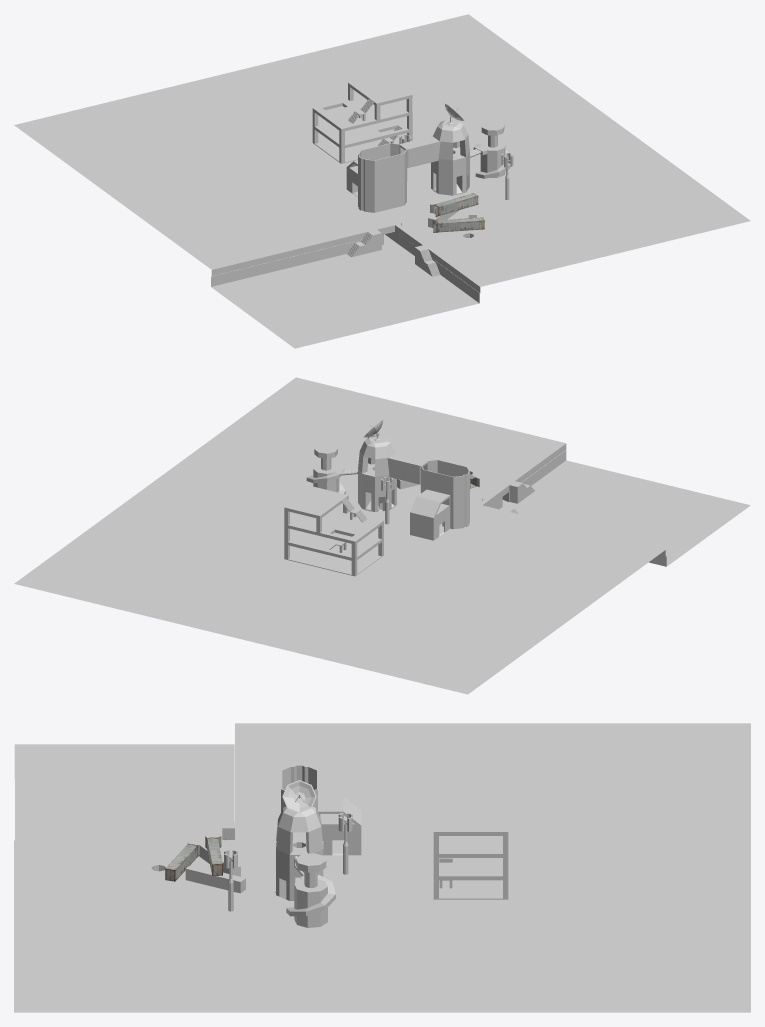
File: TheTower.fbx
3 renders of one model, top to bottom at view 1: azimuth 30°, elevation 25°; view 2: azimuth 150°, elevation 25°; view 3: azimuth 270°, elevation 25°, orthographic. The views are drawn at different scales.
Parts seen in each view (by area): view 1: Cylinder, Cube, Cube.019, Cube.005, Cube.014, Cube.008, Cube.006, Cube.016; view 2: Cylinder, Cube, Cube.019, Cube.005, Cube.014; view 3: Cylinder, Cube, Cube.019, Cube.005, Cube.014, Cube.007, Cylinder.001, Cube.008, Cube.016, Cube.002.
Part boxes in pixels (left/top/right/bottom): Cylinder: left=14, top=14, right=750, bottom=292; Cube: left=211, top=231, right=479, bottom=348; Cube.019: left=312, top=74, right=412, bottom=163; Cube.005: left=346, top=136, right=440, bottom=212; Cube.014: left=473, top=121, right=511, bottom=178; Cube.008: left=435, top=217, right=484, bottom=232; Cube.006: left=346, top=229, right=381, bottom=257; Cube.016: left=434, top=193, right=478, bottom=216; Cylinder: left=14, top=377, right=665, bottom=694; Cube: left=378, top=450, right=750, bottom=566; Cube.019: left=284, top=486, right=383, bottom=576; Cube.005: left=387, top=452, right=469, bottom=540; Cube.014: left=306, top=443, right=345, bottom=494; Cylinder: left=14, top=723, right=750, bottom=1012; Cube: left=14, top=744, right=234, bottom=840; Cube.019: left=433, top=809, right=508, bottom=899; Cube.005: left=281, top=765, right=361, bottom=855; Cube.014: left=286, top=853, right=335, bottom=927; Cube.007: left=185, top=865, right=245, bottom=893; Cylinder.001: left=282, top=780, right=316, bottom=813; Cube.008: left=165, top=843, right=197, bottom=881; Cube.016: left=207, top=837, right=222, bottom=875; Cube.002: left=338, top=813, right=352, bottom=874.
Bounding box in the file's own units: 25511 × 5406 × 27382.
